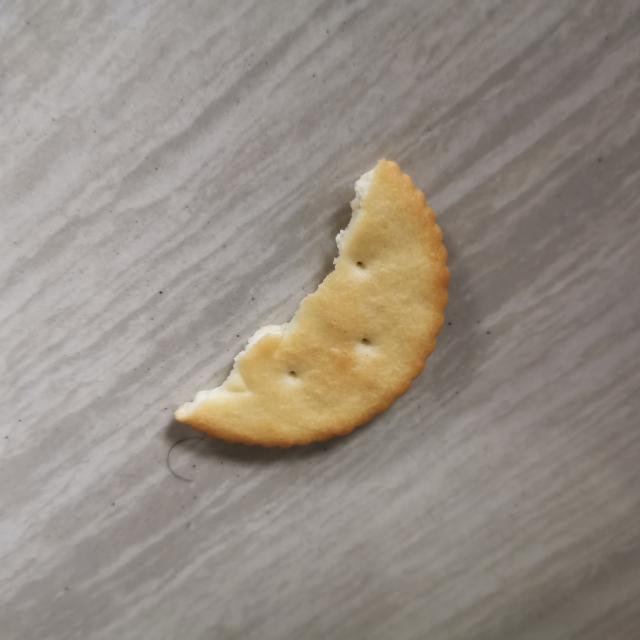Broken: (173, 156, 451, 449)
